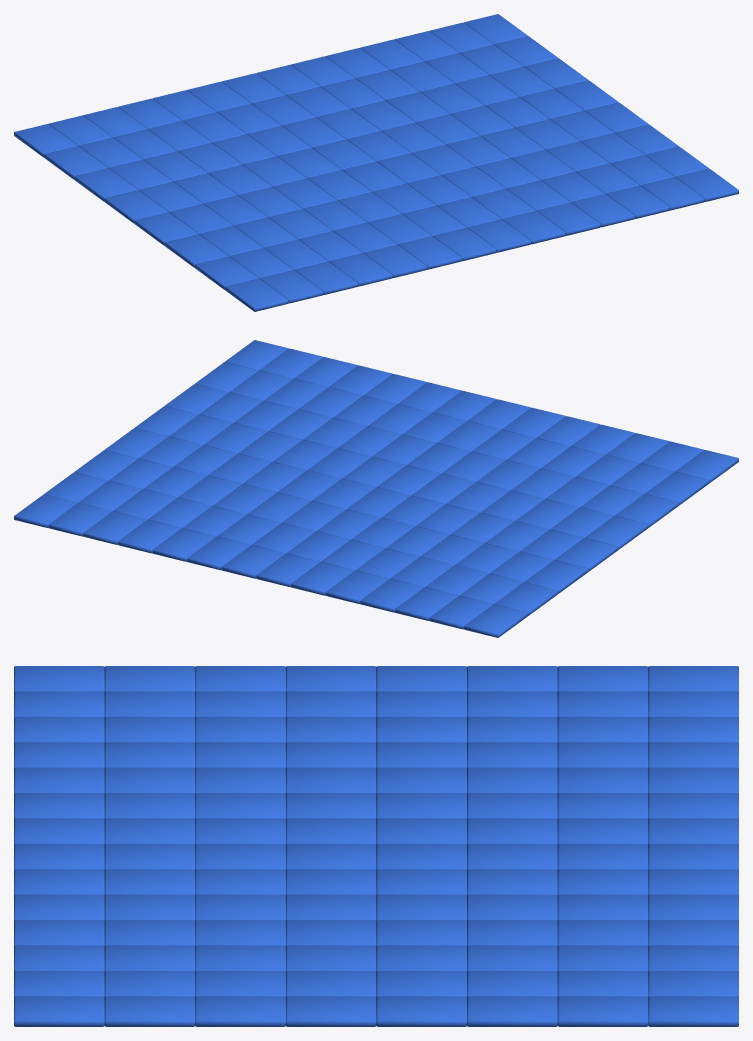
File: Tatami.fbx
3 renders of one model, top to bottom at view 1: azimuth 30°, elevation 25°; view 2: azimuth 150°, elevation 25°; view 3: azimuth 270°, elevation 25°, orthographic. The views are drawn at different scales.
Visible parts, largest first — view 1: Tatami; view 2: Tatami; view 3: Tatami.
Boxes of the visible parts, x1=… form: Tatami: x1=14, y1=14, x2=738, y2=311; Tatami: x1=14, y1=340, x2=738, y2=637; Tatami: x1=14, y1=666, x2=738, y2=1026.
Bounding box in the file's own units: 9435 × 77.26 × 8129.
